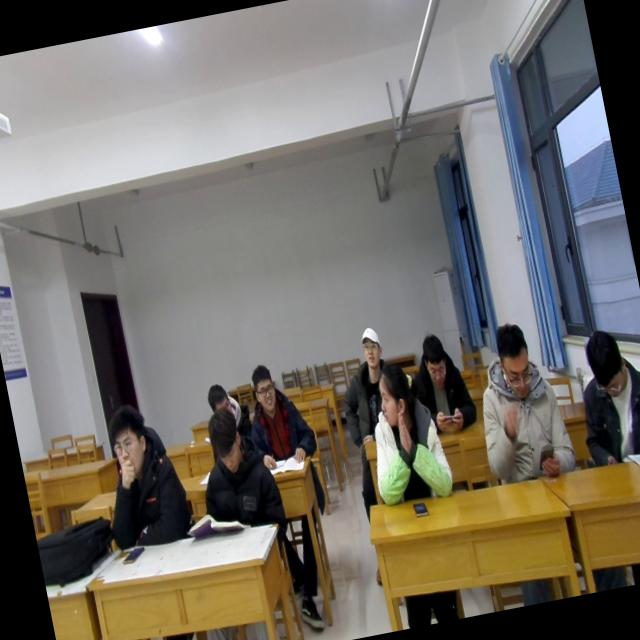down: (575, 322, 634, 410), (487, 310, 538, 400), (202, 400, 250, 480), (414, 326, 454, 391), (200, 371, 238, 420)
lookup: (98, 395, 159, 488), (244, 356, 282, 421), (354, 320, 387, 372)
sit: (462, 316, 576, 483), (88, 396, 198, 557), (353, 354, 459, 512), (185, 401, 290, 539), (566, 328, 640, 465), (240, 352, 322, 473), (400, 318, 479, 436), (329, 320, 398, 444), (201, 374, 251, 432)
